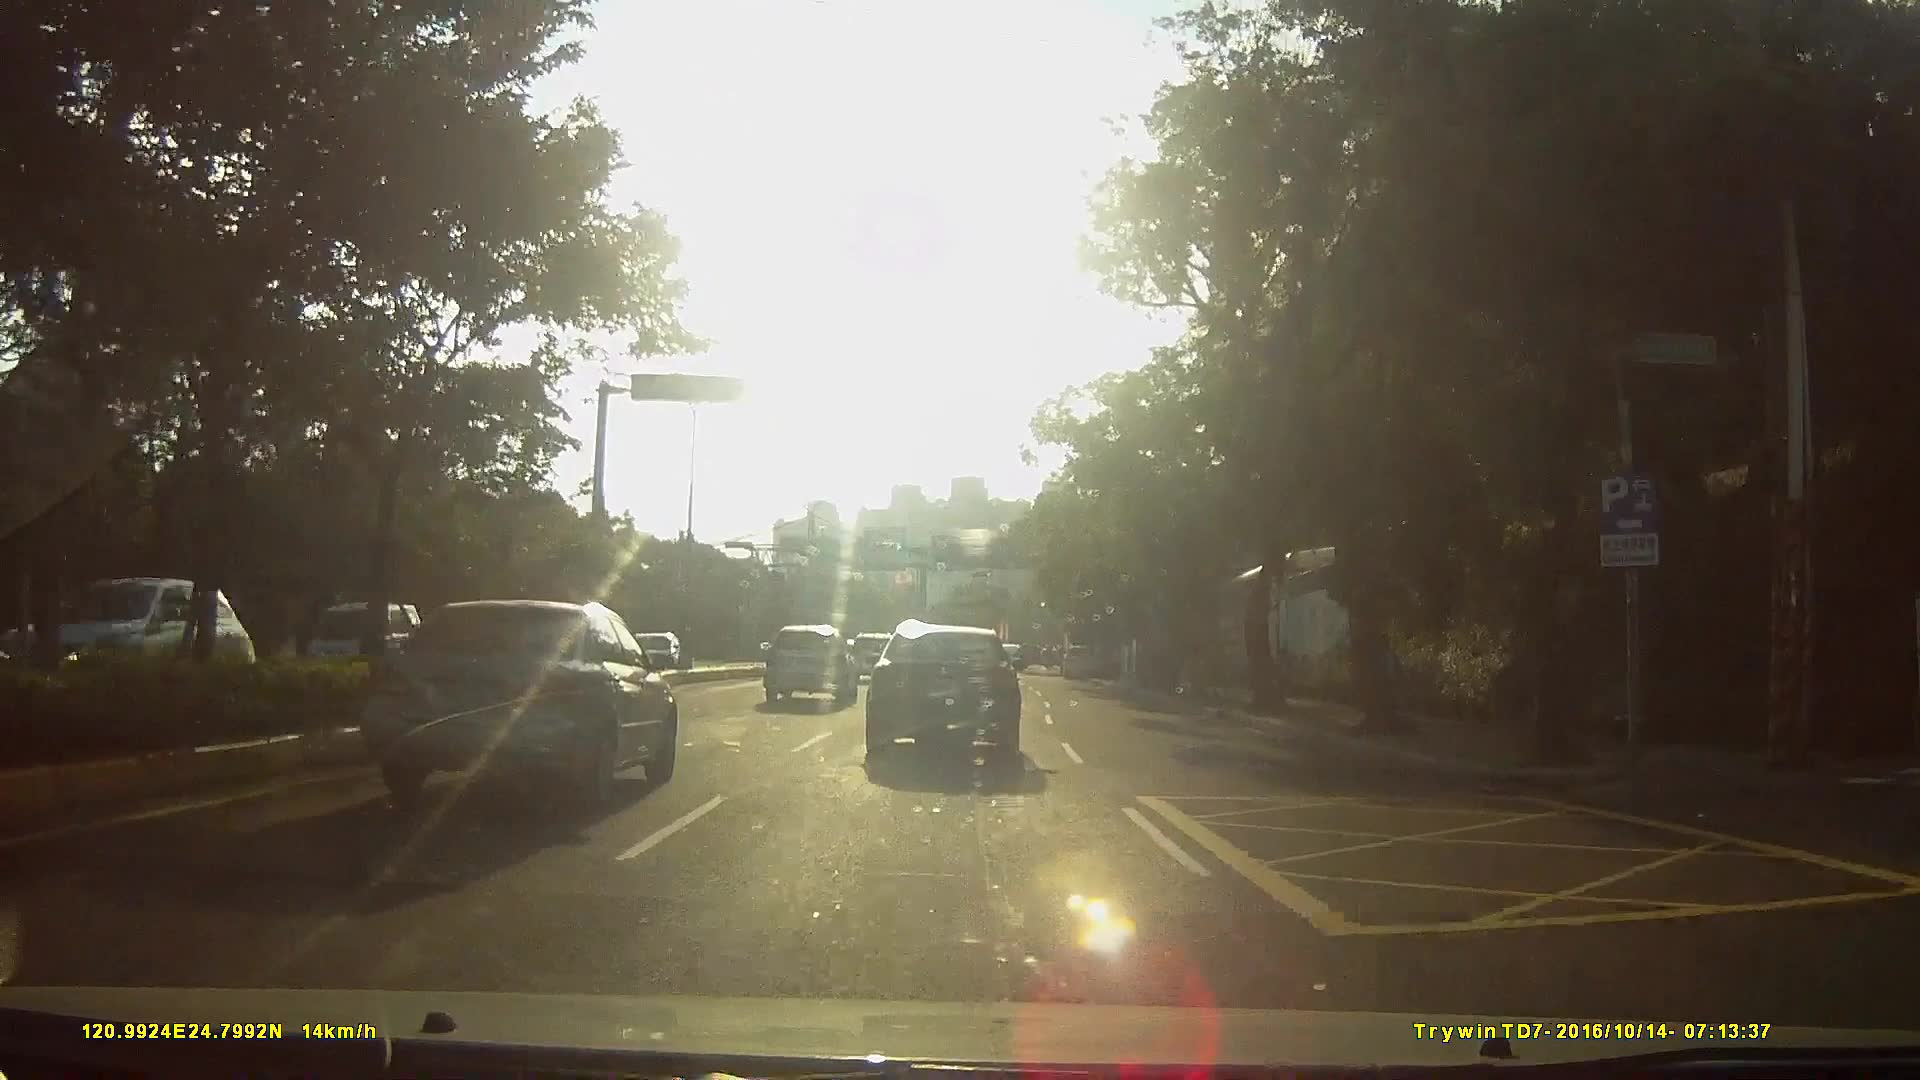vehicle: (361, 597, 678, 810), (11, 575, 252, 711), (865, 621, 1046, 770), (758, 625, 858, 711), (844, 632, 899, 687), (1060, 646, 1101, 684)
